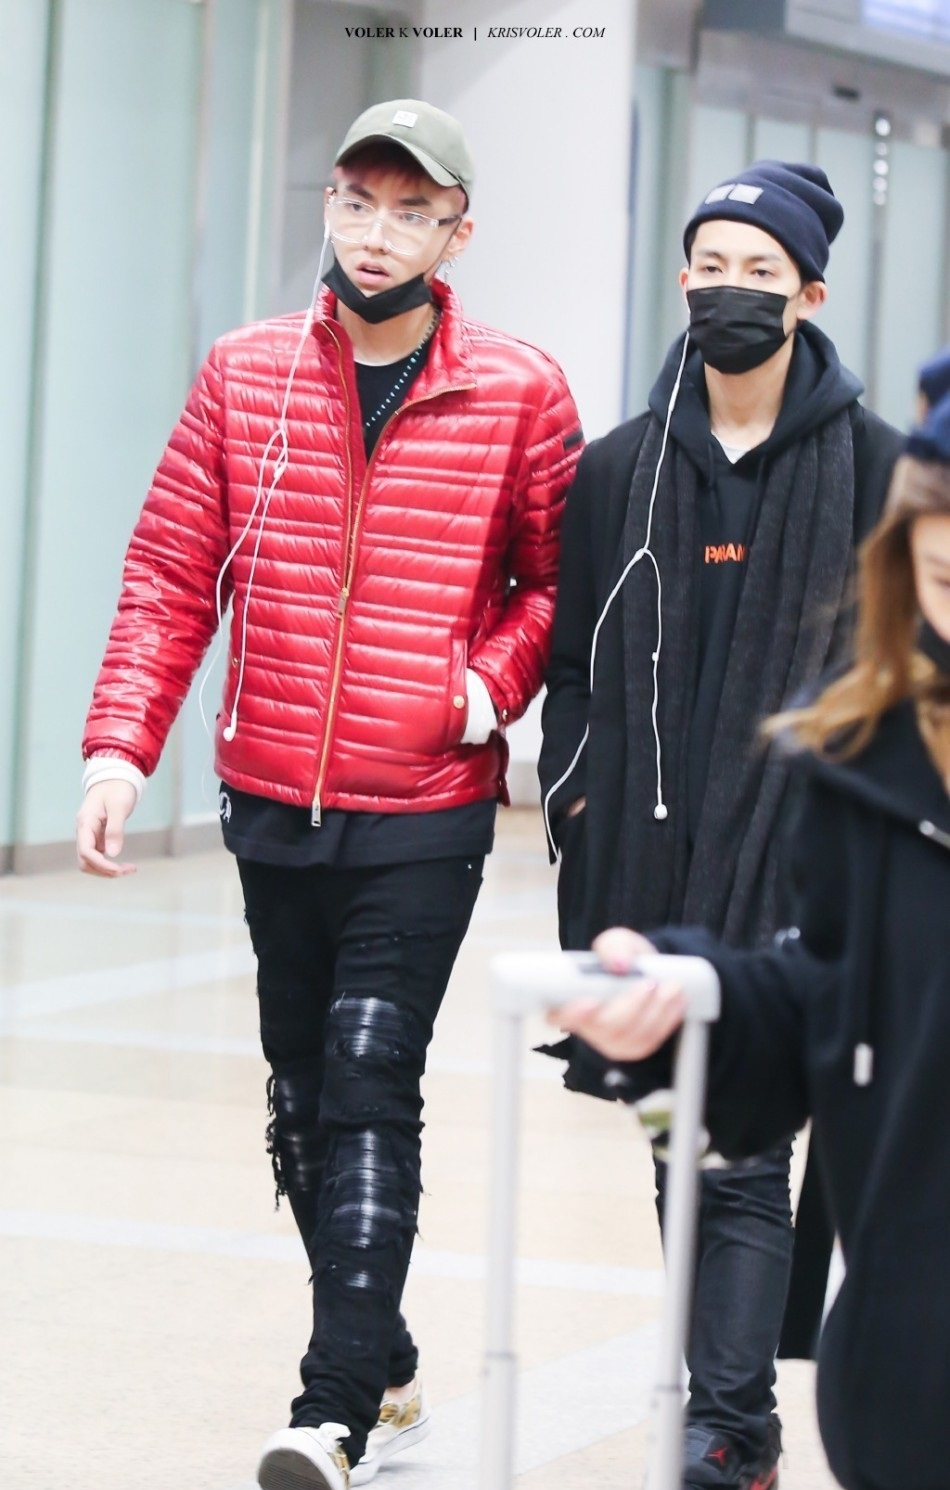face_mask: (332, 143, 442, 322), (691, 209, 794, 375)
